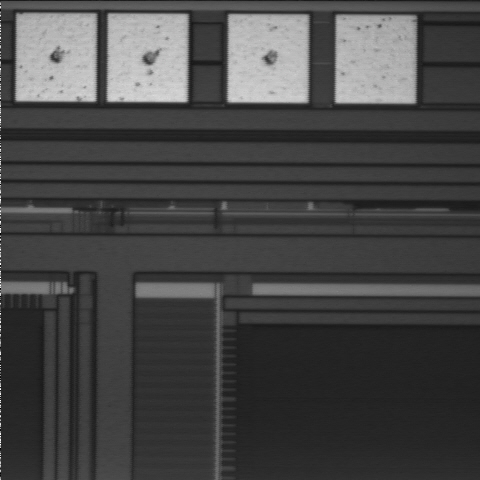pad: (108, 15, 187, 102), (228, 15, 307, 102), (17, 14, 95, 101), (336, 17, 414, 103)
